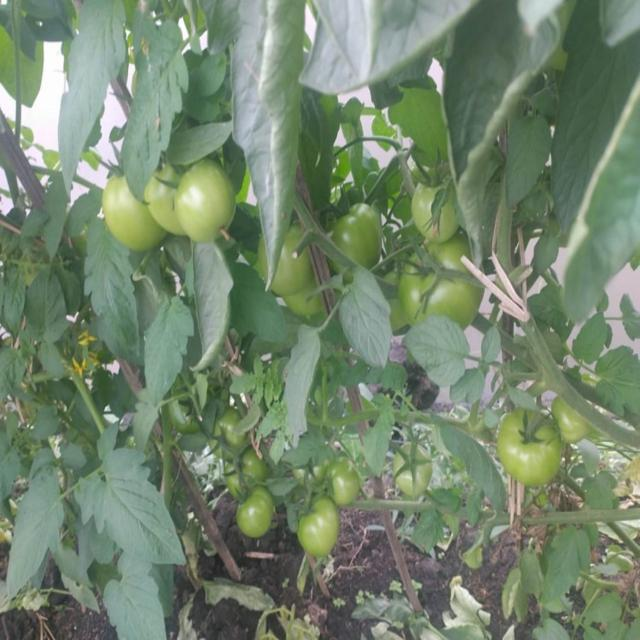tomato: (402, 241, 483, 325), (502, 408, 569, 483), (176, 163, 238, 243), (106, 175, 167, 252), (264, 225, 317, 297), (332, 202, 382, 270), (416, 171, 460, 240), (146, 158, 179, 241), (296, 501, 345, 554), (220, 450, 271, 495), (237, 489, 277, 544), (212, 410, 257, 455), (397, 447, 435, 500), (384, 261, 409, 334), (560, 394, 591, 450), (173, 387, 202, 437), (288, 289, 323, 322), (337, 464, 361, 503), (294, 457, 326, 485)
